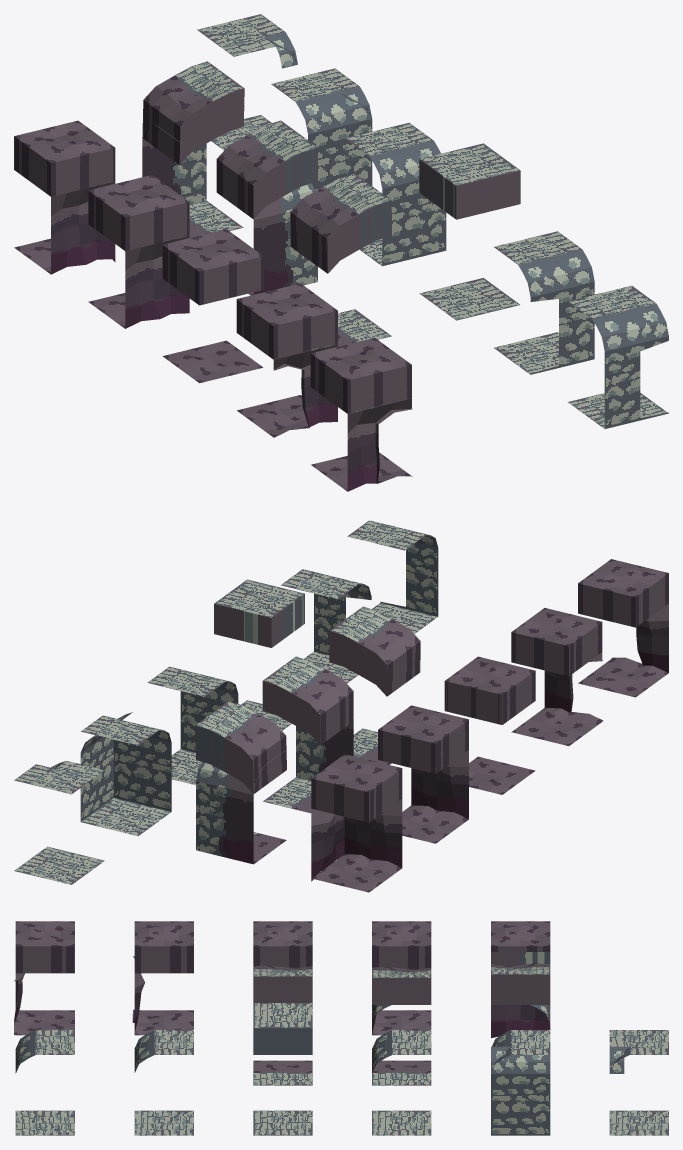
Rendered from dungeon_tileset12.glb.
3 renders of one model, top to bottom at view 1: azimuth 30°, elevation 25°; view 2: azimuth 150°, elevation 25°; view 3: azimuth 270°, elevation 25°, orthographic. The views are drawn at different scales.
Visible parts, largest first — view 1: Cube.012, Cube.017, Cube.014, Cube.003, Cube.010, Cube.009, Cube.007, Cube, Cube.001, Cube.018, Cube.008, Cube.004 (+2 smaller); view 2: Cube.012, Cube.014, Cube.006, Cube.003, Cube.017, Cube.010, Cube.009, Cube.001, Cube.018, Cube, Cube.008, Cube.004 (+2 smaller); view 3: Cube.006, Cube.009, Cube.010, Cube, Cube.014, Cube.003, Cube.017, Cube.018, Cube.005, Cube.008, Cube.004, Cube.007 (+2 smaller).
Boxes of the visible parts, box(x1,y1,x2,y2) form: Cube.012: box(142, 61, 244, 237); Cube.017: box(216, 120, 317, 295); Cube.014: box(14, 120, 115, 274); Cube.003: box(88, 175, 189, 328); Cube.010: box(310, 338, 412, 491); Cube.009: box(236, 283, 337, 437); Cube.007: box(494, 231, 594, 374); Cube: box(419, 143, 520, 320); Cube.001: box(162, 229, 263, 383); Cube.018: box(290, 173, 391, 346); Cube.008: box(568, 285, 668, 428); Cube.004: box(345, 122, 446, 266); Cube.012: box(195, 701, 286, 864); Cube.014: box(311, 754, 402, 892); Cube.006: box(80, 712, 171, 836); Cube.003: box(378, 705, 468, 843); Cube.017: box(262, 656, 353, 813); Cube.010: box(578, 559, 668, 697); Cube.009: box(511, 608, 603, 745); Cube.001: box(444, 656, 535, 794); Cube.018: box(329, 606, 420, 764); Cube: box(214, 579, 304, 730); Cube.008: box(347, 520, 438, 633); Cube.004: box(147, 666, 238, 785); Cube.006: box(491, 1030, 550, 1135); Cube.009: box(132, 921, 193, 1035); Cube.010: box(14, 921, 74, 1035); Cube: box(253, 1003, 312, 1135); Cube.014: box(491, 921, 550, 1038); Cube.003: box(372, 921, 431, 1035); Cube.017: box(372, 967, 431, 1085); Cube.018: box(253, 965, 312, 1085); Cube.005: box(609, 1030, 668, 1135); Cube.008: box(15, 1030, 74, 1135); Cube.004: box(372, 1030, 431, 1135); Cube.007: box(134, 1030, 193, 1135).
Size of the model in its own units: 10.01 by 4.24 by 22.06.
Materials: 1 (1 with a texture image).
